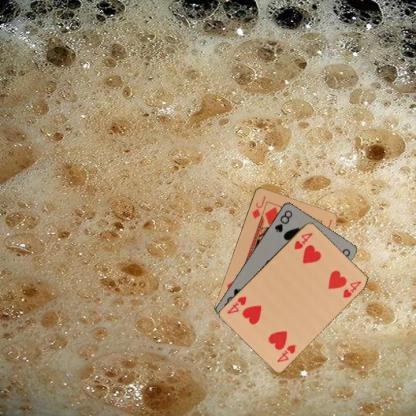4h: (274, 342, 297, 364), (292, 230, 314, 250)
8s: (272, 207, 294, 233)
Jd: (249, 194, 267, 220)
